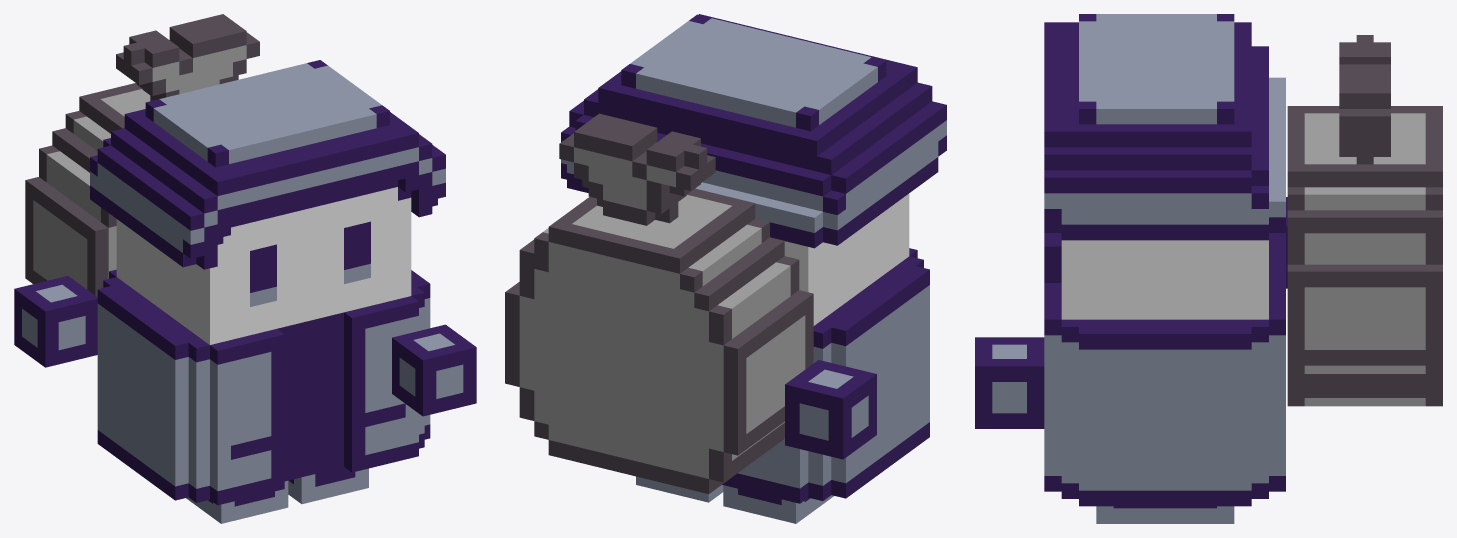
The model's file is p3TrashHoldGrab.gltf.
3 views of the same model, side by side, from view 1: azimuth 30°, elevation 25°; view 2: azimuth 150°, elevation 25°; view 3: azimuth 270°, elevation 25° (orthographic). The views are drawn at different scales.
Parts seen in each view (by area): view 1: Object_0.001, Object_0.002, Object_0, Object_0.003; view 2: Object_0.002, Object_0.001, Object_0.003; view 3: Object_0.001, Object_0.002, Object_0.
Part boxes in pixels (x1,y1,x2,y2): Object_0.001: [90, 60, 445, 523]; Object_0.002: [25, 14, 259, 296]; Object_0: [392, 324, 476, 416]; Object_0.003: [14, 276, 97, 367]; Object_0.002: [505, 113, 813, 493]; Object_0.001: [561, 14, 946, 523]; Object_0.003: [785, 360, 876, 459]; Object_0.001: [1044, 14, 1285, 523]; Object_0.002: [1287, 35, 1442, 406]; Object_0: [975, 337, 1044, 428].
Size of the model in its own units: 2.2 by 2.71 by 2.71.
Materials: 4 (4 with a texture image).
